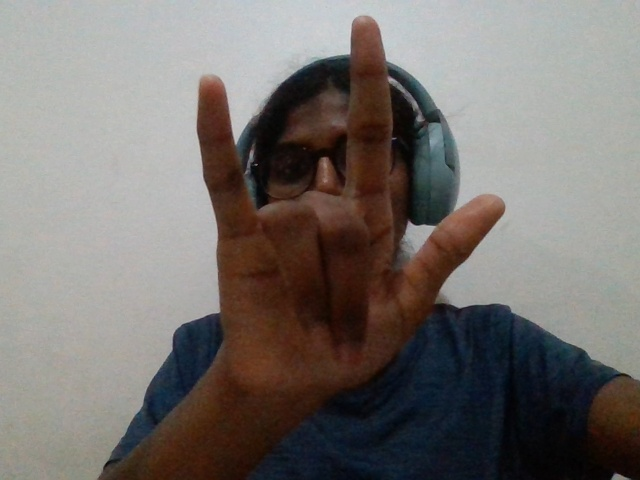I Love You: (161, 10, 510, 426)
